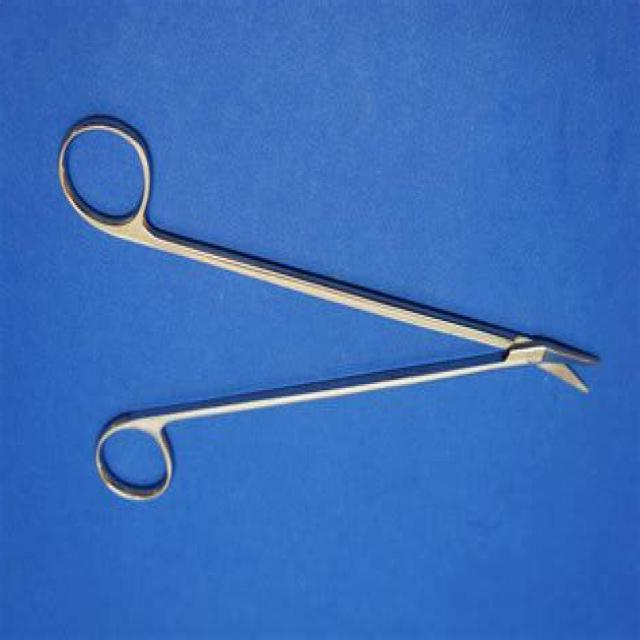Potts: (54, 104, 605, 512)
